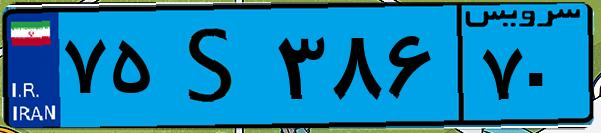0: (525, 38, 570, 115)
3: (270, 28, 330, 110)
5: (110, 28, 158, 98)
6: (385, 28, 445, 110)
7: (57, 26, 110, 100), (475, 38, 525, 113)
8: (330, 28, 385, 110)
S: (158, 12, 270, 120)
